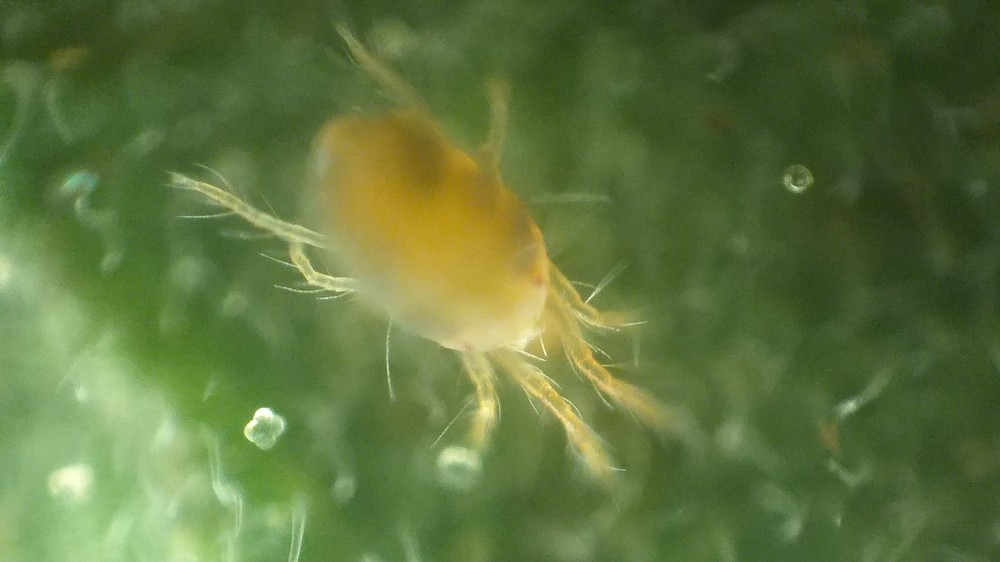Aracnido Rojo: (166, 12, 711, 497)
